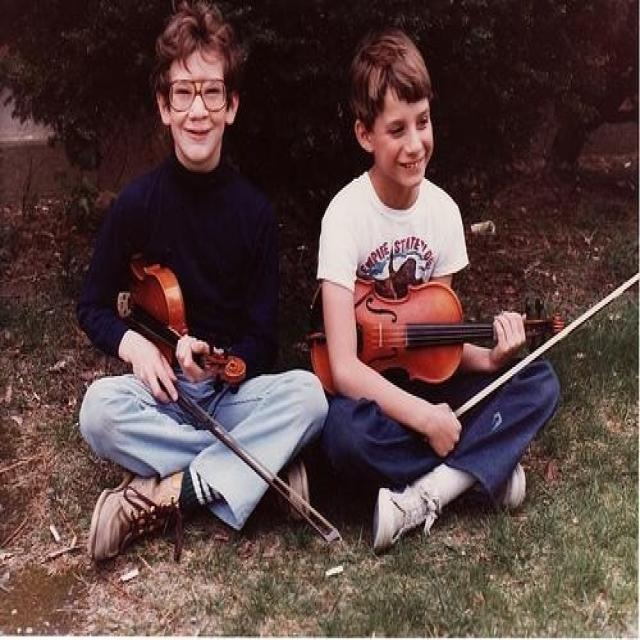violin: (307, 271, 566, 389), (111, 252, 252, 392)
